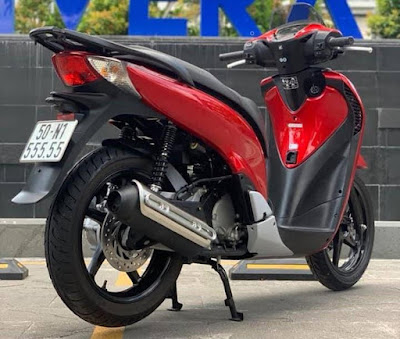bien_so: (17, 117, 81, 168)
